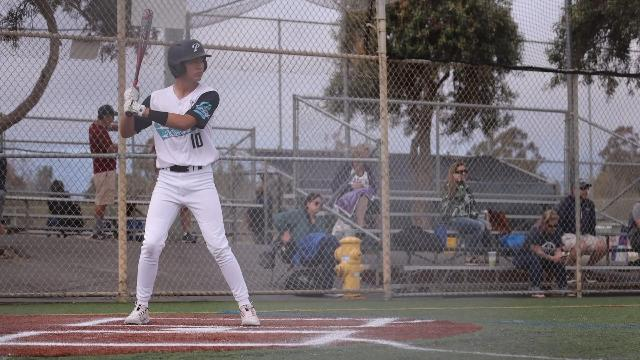bat: (133, 8, 153, 86)
